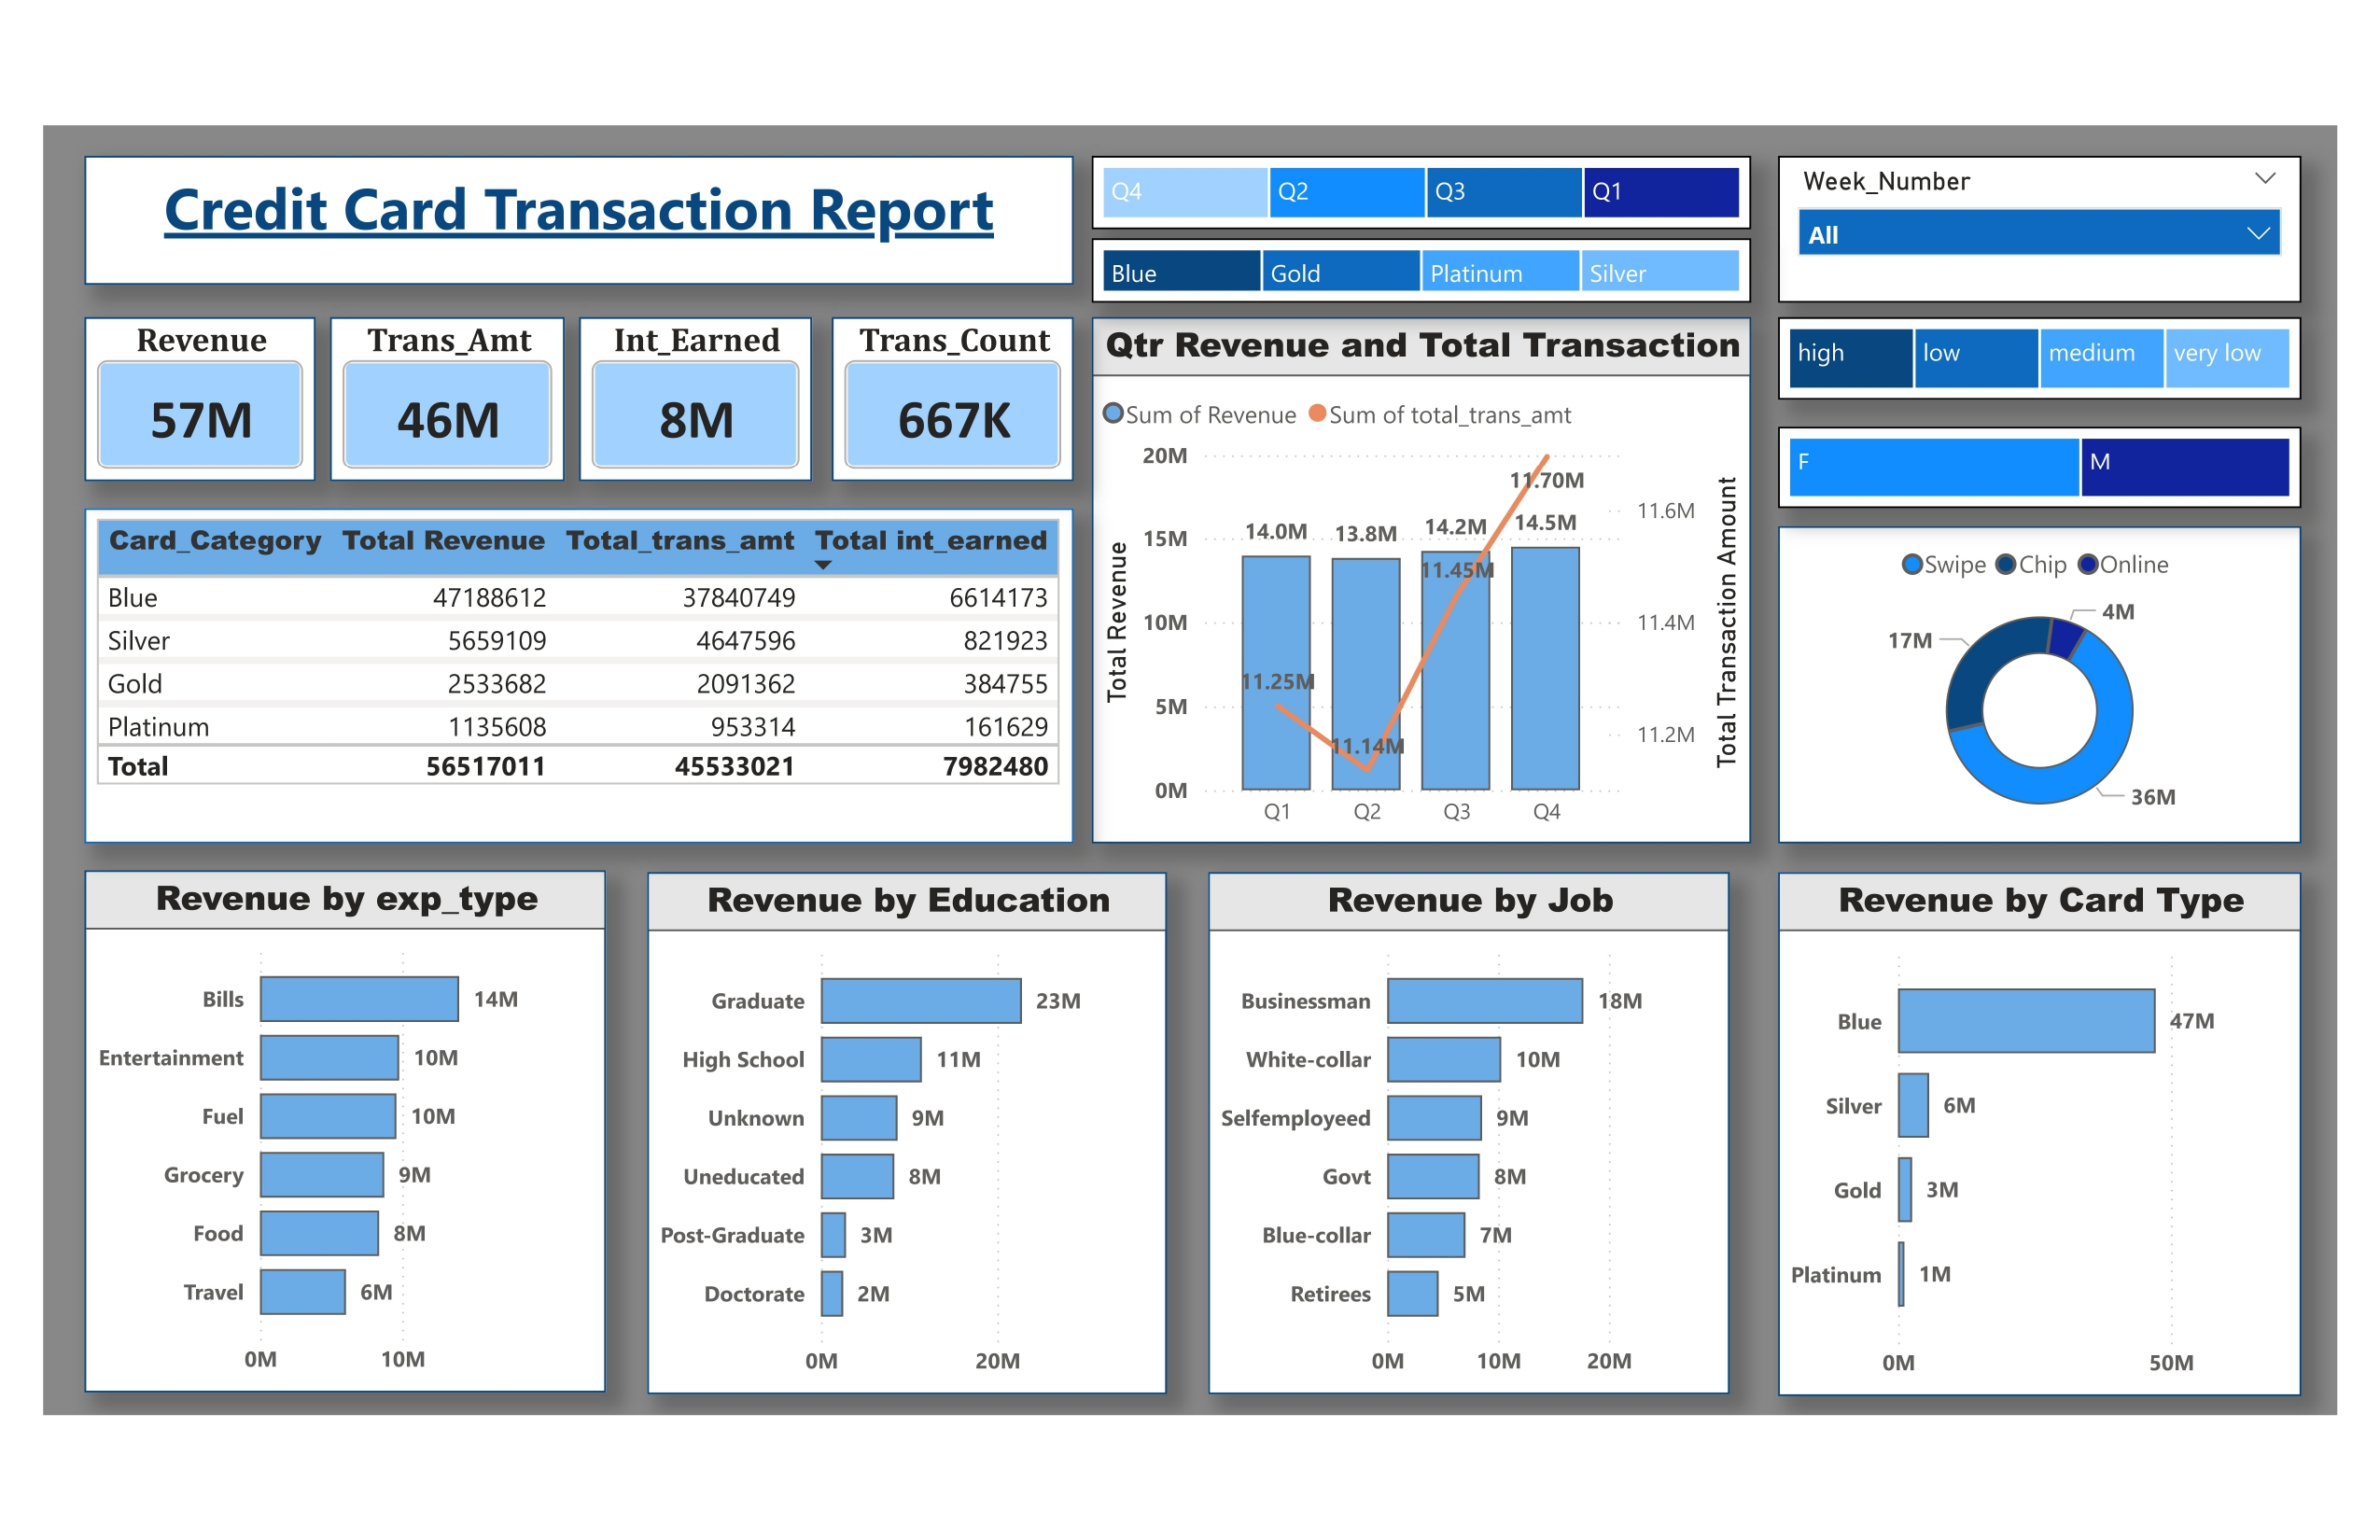

Layout of this report page (visuals, bound fields, positions):
{"tool":"powerbi","page":{"name":"cc_transaction","canvas":[1280,720],"ordinal":0},"visuals":[{"type":"textbox","box":[22.9,16.9,552.5,72.4],"z":0},{"type":"lineClusteredColumnComboChart","title":"Qtr Revenue and Total Transaction","fields":{"Category":["Credit_Card.qtr"],"Y":["Sum(Credit_Card.Revenue)"],"Y2":["Sum(Credit_Card.total_trans_amt)"]},"box":[585.1,107.4,368,293.2],"z":1000},{"type":"clusteredBarChart","title":"Revenue by exp_type","fields":{"Y":["Sum(Credit_Card.Revenue)"],"Category":["Credit_Card.exp_type"]},"box":[22.9,416.2,290.8,290.8],"z":2000},{"type":"clusteredBarChart","title":"Revenue by Job","fields":{"Y":["Sum(Credit_Card.Revenue)"],"Category":["Customer.customer_job"]},"box":[650.3,417.4,290.8,290.8],"z":3000},{"type":"clusteredBarChart","title":"Revenue by Education","fields":{"Y":["Sum(Credit_Card.Revenue)"],"Category":["Customer.education_level"]},"box":[336.6,417.4,290.8,290.8],"z":4000},{"type":"clusteredBarChart","title":"Revenue by Card Type","fields":{"Y":["Sum(Credit_Card.Revenue)"],"Category":["Credit_Card.card_category"]},"box":[967.6,417.4,292,292],"z":5000},{"type":"donutChart","title":"Revenue by exp_type","fields":{"Category":["Credit_Card.use_chip"],"Y":["Sum(Credit_Card.Revenue)"]},"box":[967.6,224.4,292,176.1],"z":6000},{"type":"tableEx","fields":{"Values":["Credit_Card.card_category","Sum(Credit_Card.Revenue)","Sum(Credit_Card.total_trans_amt)","Sum(Credit_Card.interest_earned)"]},"box":[22.9,213.5,552.5,187],"z":7000},{"type":"cardVisual","title":"Revenue","fields":{"Data":["Sum(Credit_Card.Revenue)"]},"box":[22.9,107.4,129.1,91.7],"z":8000},{"type":"cardVisual","title":"Trans_Amt","fields":{"Data":["Sum(Credit_Card.total_trans_amt)"]},"box":[160.5,107.4,130.3,91.7],"z":9000},{"type":"cardVisual","title":"Int_Earned","fields":{"Data":["Sum(Credit_Card.interest_earned)"]},"box":[299.2,107.4,130.3,91.7],"z":10000},{"type":"cardVisual","title":"Trans_Count","fields":{"Data":["Sum(Credit_Card.total_trans_ct)"]},"box":[440.4,107.4,135.1,91.7],"z":11000},{"type":"treemap","fields":{"Values":["CountNonNull(Credit_Card.qtr)"],"Group":["Credit_Card.qtr"]},"box":[585.1,16.9,368,41],"z":12000},{"type":"treemap","fields":{"Values":["CountNonNull(Customer.gender)"],"Group":["Customer.gender"]},"box":[967.6,167.7,292,45.8],"z":13000},{"type":"slicer","fields":{"Values":["Credit_Card.week_num"]},"box":[967.6,16.9,292,82],"z":14000},{"type":"treemap","fields":{"Values":["Count(Credit_Card.card_category)"],"Group":["Credit_Card.card_category"]},"box":[585.1,62.7,368,36.2],"z":15000},{"type":"treemap","fields":{"Group":["Customer.Income_group"],"Values":["Count(Customer.Income_group)"]},"box":[967.6,107.4,292,45.8],"z":16000}]}

Visuals, with their boxes in screenshot pixels (x1, y1, x2, y2):
textbox: (103, 160, 1080, 288)
"Qtr Revenue and Total Transaction" lineClusteredColumnComboChart: (1097, 320, 1748, 839)
"Revenue by exp_type" clusteredBarChart: (103, 866, 617, 1380)
"Revenue by Job" clusteredBarChart: (1212, 868, 1727, 1382)
"Revenue by Education" clusteredBarChart: (657, 868, 1171, 1382)
"Revenue by Card Type" clusteredBarChart: (1773, 868, 2289, 1385)
"Revenue by exp_type" donutChart: (1773, 527, 2289, 838)
tableEx - Credit_Card.card_category x Sum(Credit_Card.Revenue): (103, 508, 1080, 838)
"Revenue" cardVisual: (103, 320, 330, 483)
"Trans_Amt" cardVisual: (346, 320, 576, 483)
"Int_Earned" cardVisual: (591, 320, 821, 483)
"Trans_Count" cardVisual: (841, 320, 1080, 483)
treemap - CountNonNull(Credit_Card.qtr) x Credit_Card.qtr: (1097, 160, 1748, 232)
treemap - CountNonNull(Customer.gender) x Customer.gender: (1773, 427, 2289, 508)
slicer - Credit_Card.week_num: (1773, 160, 2289, 305)
treemap - Count(Credit_Card.card_category) x Credit_Card.card_category: (1097, 241, 1748, 305)
treemap - Customer.Income_group x Count(Customer.Income_group): (1773, 320, 2289, 401)
